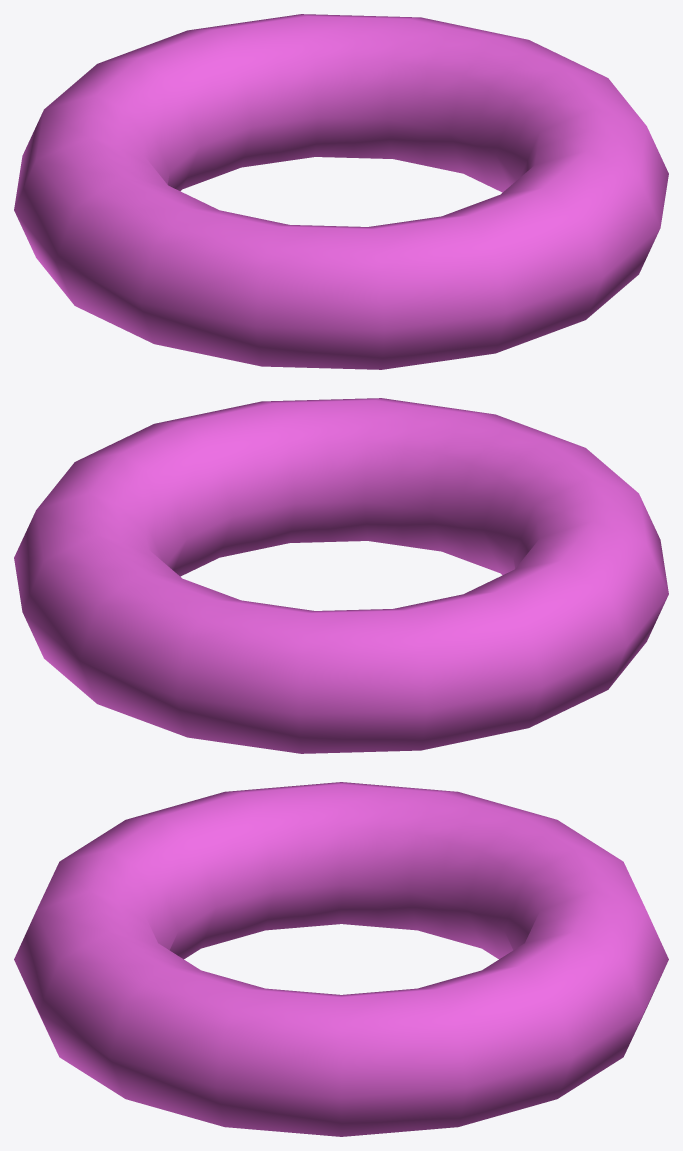
File: SuperToroid.gltf
The picture shows the model from 3 angles, top to bottom: view 1: azimuth 30°, elevation 25°; view 2: azimuth 150°, elevation 25°; view 3: azimuth 270°, elevation 25°; orthographic projection.
Visible parts, largest first — view 1: SuperToroid; view 2: SuperToroid; view 3: SuperToroid.
Boxes of the visible parts, bbox=[...] form: SuperToroid: bbox=[14, 14, 668, 369]; SuperToroid: bbox=[14, 398, 668, 753]; SuperToroid: bbox=[14, 782, 668, 1136].
Size of the model in its own units: 2.6 by 0.6 by 2.6.
